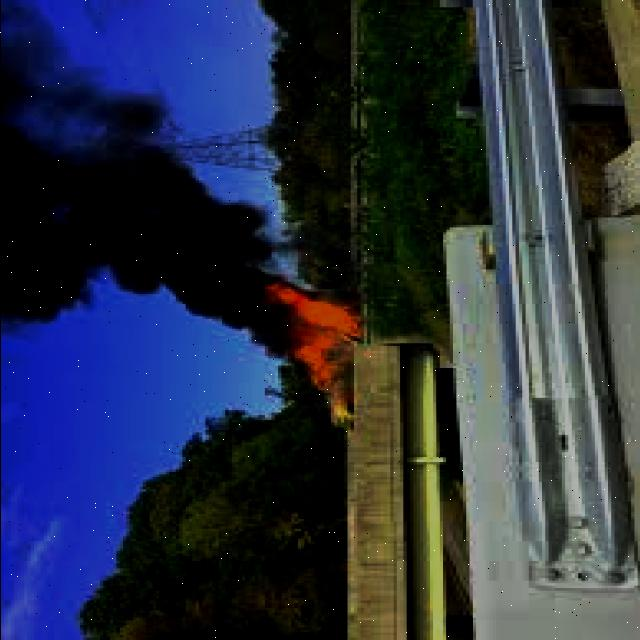api: (258, 273, 364, 414)
